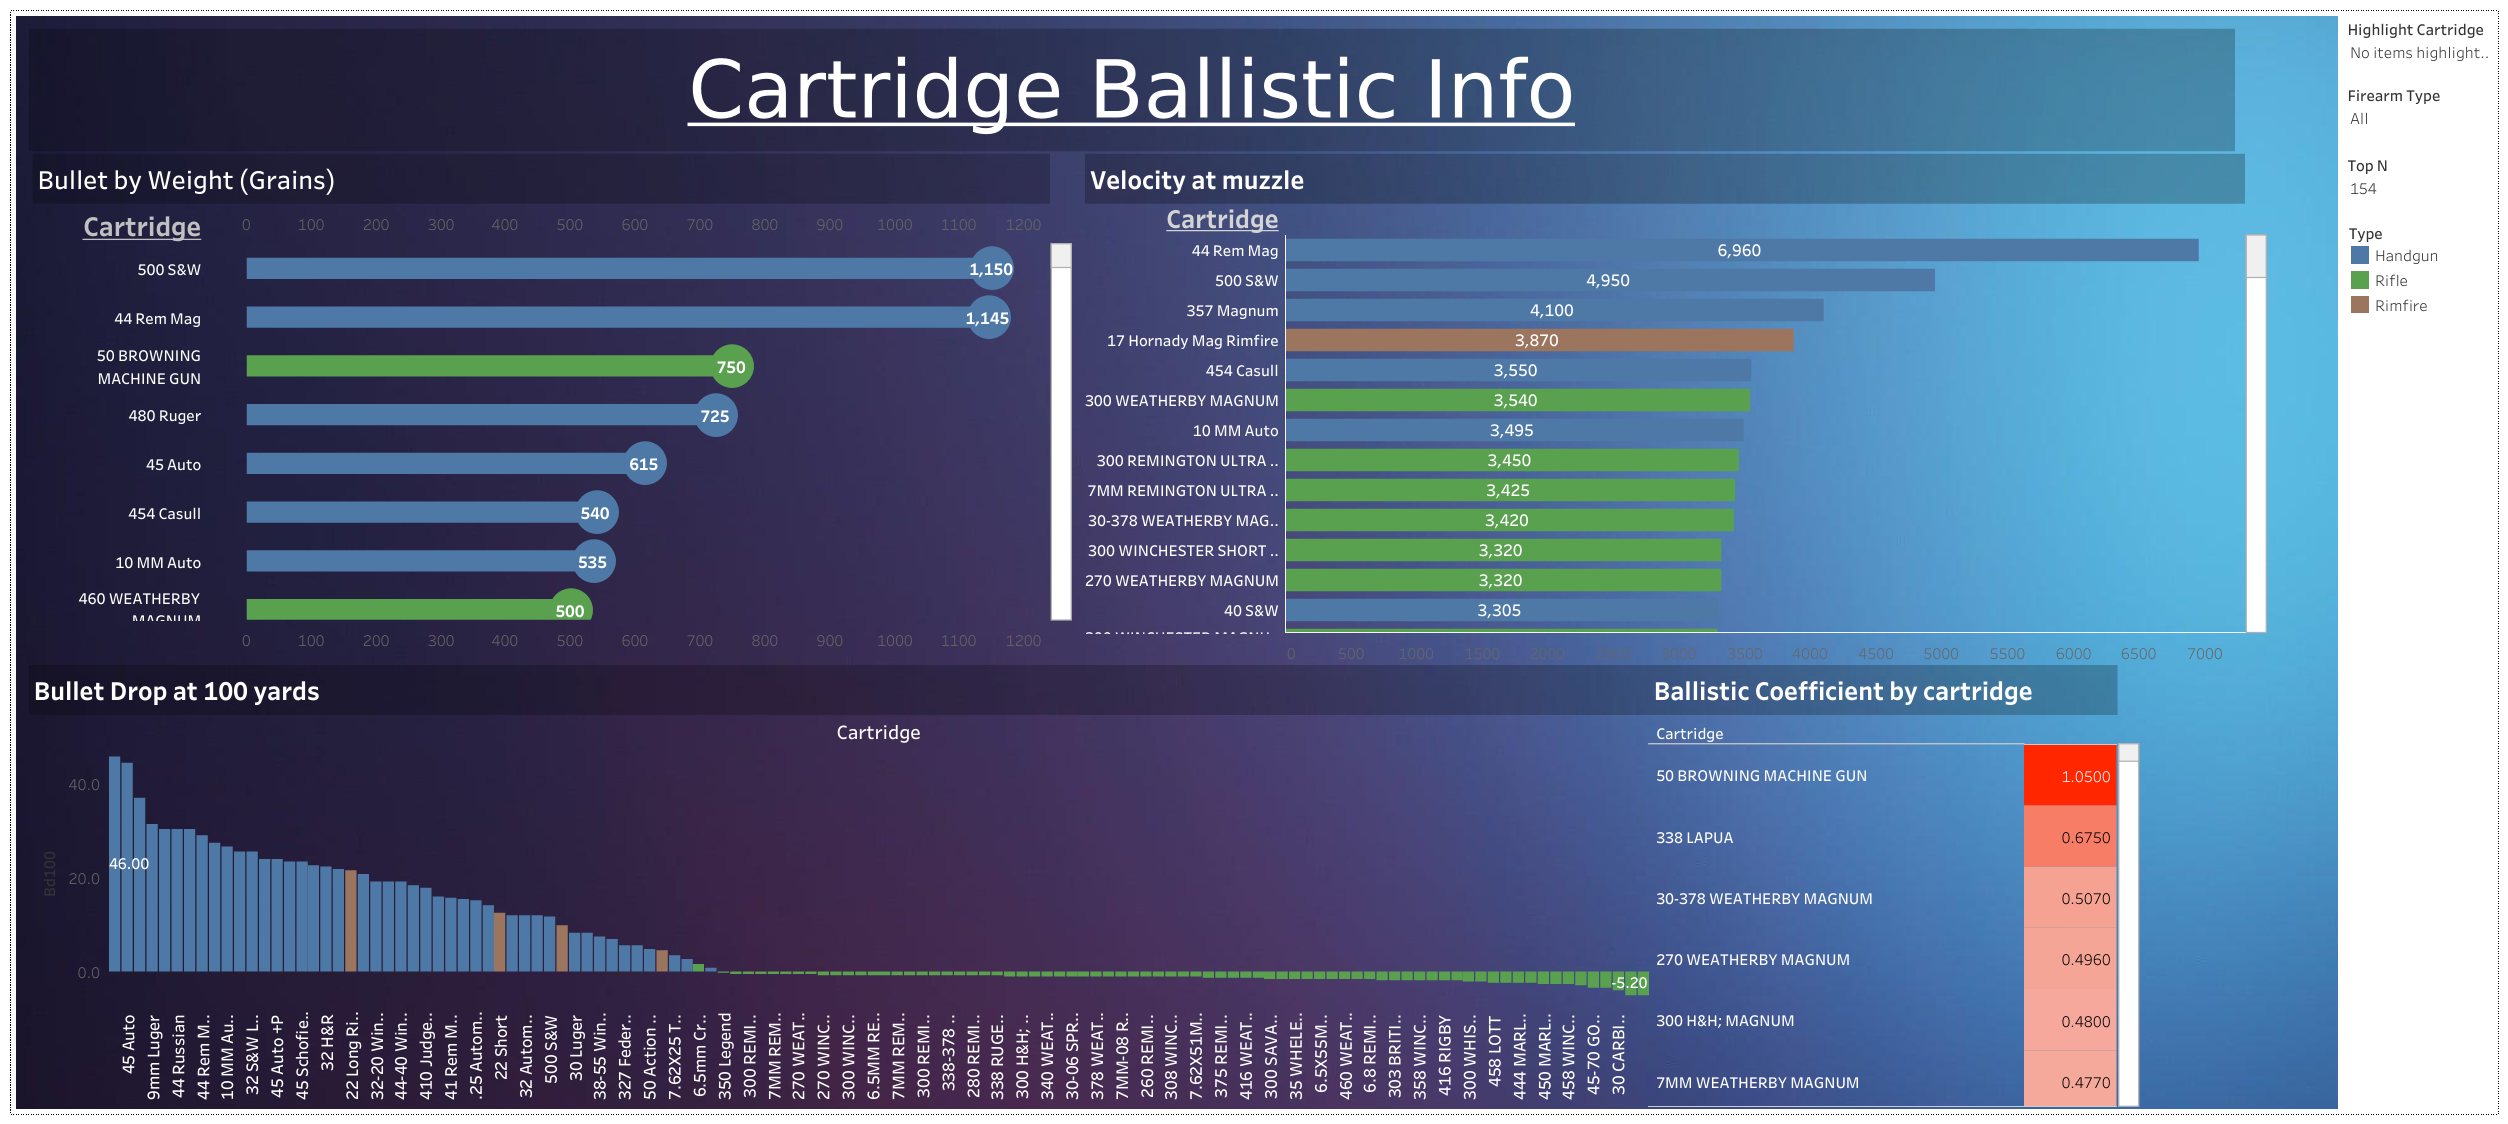

What the dashboard file says about the page in this screenshot:
{"tool":"tableau","page":{"name":"Cartridge Ballistic Info","canvas":[1000,1000],"units":"permille","ordinal":0},"visuals":[{"type":"image","param":"Image/Screen Shot 2018-06-01 at 10.54.29 AM.jpeg","box":[6.1,9.4,903.8,981.2]},{"type":"highlighter","title":"Ballistic Coefficient by cartridge","param":"[federated.1j3mjo61p4ypa210ey14r1c6oy41].[none:Cartridge:nk]","box":[909.9,9.4,84,54.3]},{"type":"title","box":[11.5,25.4,879.4,109.4]},{"type":"filter","title":"Ballistic Coefficient by cartridge","param":"[federated.1j3mjo61p4ypa210ey14r1c6oy41].[none:Type:nk]","box":[909.9,63.7,84,54.3]},{"type":"parameter","param":"[Parameters].[Parameter 1]","box":[909.9,118,84,54.3]},{"type":"worksheet","title":"Bullet by Weight (Grains)","mark":"Automatic","rows":["Cartridge"],"cols":["Weight","Weight"],"box":[12.9,137,414.6,446.4]},{"type":"worksheet","title":"Velocity at muzzle ","mark":"Automatic","rows":["Cartridge"],"cols":["V0"],"box":[432.2,137,471.5,450.8]},{"type":"legend","title":"Velocity at muzzle ","param":"[federated.1j3mjo61p4ypa210ey14r1c6oy41].[none:Type:nk]","box":[909.9,172.2,84,86.6]},{"type":"worksheet","title":"Bullet Drop at 100 yards","mark":"Automatic","rows":["BD100"],"cols":["Cartridge"],"box":[11.5,591.2,645.7,387.9]},{"type":"worksheet","title":"Ballistic Coefficient by cartridge","mark":"Square","rows":["Cartridge"],"box":[657.2,591.2,275.1,393.4]}]}

Visuals, with their boxes on the dashboard's canvas, which has no fixed pixel size, in thousandths of its width and height (x1, y1, x2, y2). These are canvas units, not pixel positions in the 2508x1124 screenshot, which may show the page scaled, cropped or inside an application window:
image: (6,9,910,991)
"Ballistic Coefficient by cartridge" highlighter: (910,9,994,64)
title: (12,25,891,135)
"Ballistic Coefficient by cartridge" filter: (910,64,994,118)
parameter: (910,118,994,172)
"Bullet by Weight (Grains)" worksheet: (13,137,428,583)
"Velocity at muzzle " worksheet: (432,137,904,588)
"Velocity at muzzle " legend: (910,172,994,259)
"Bullet Drop at 100 yards" worksheet: (12,591,657,979)
"Ballistic Coefficient by cartridge" worksheet (Square marks): (657,591,932,985)
